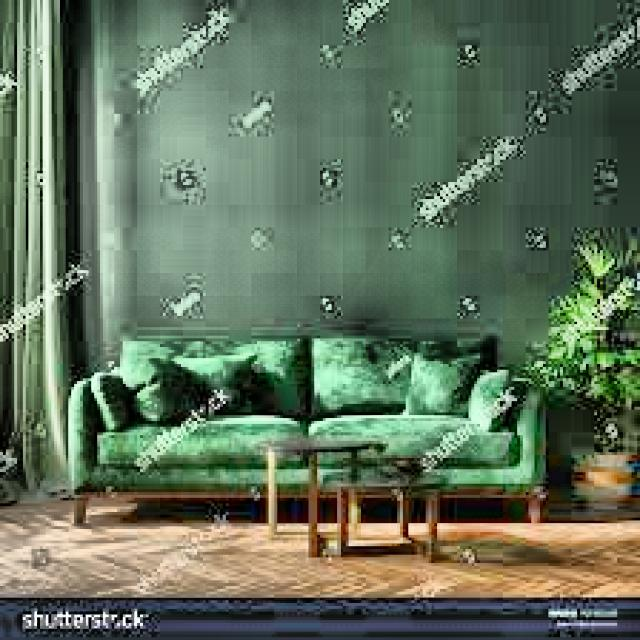sofa: (57, 330, 557, 538)
